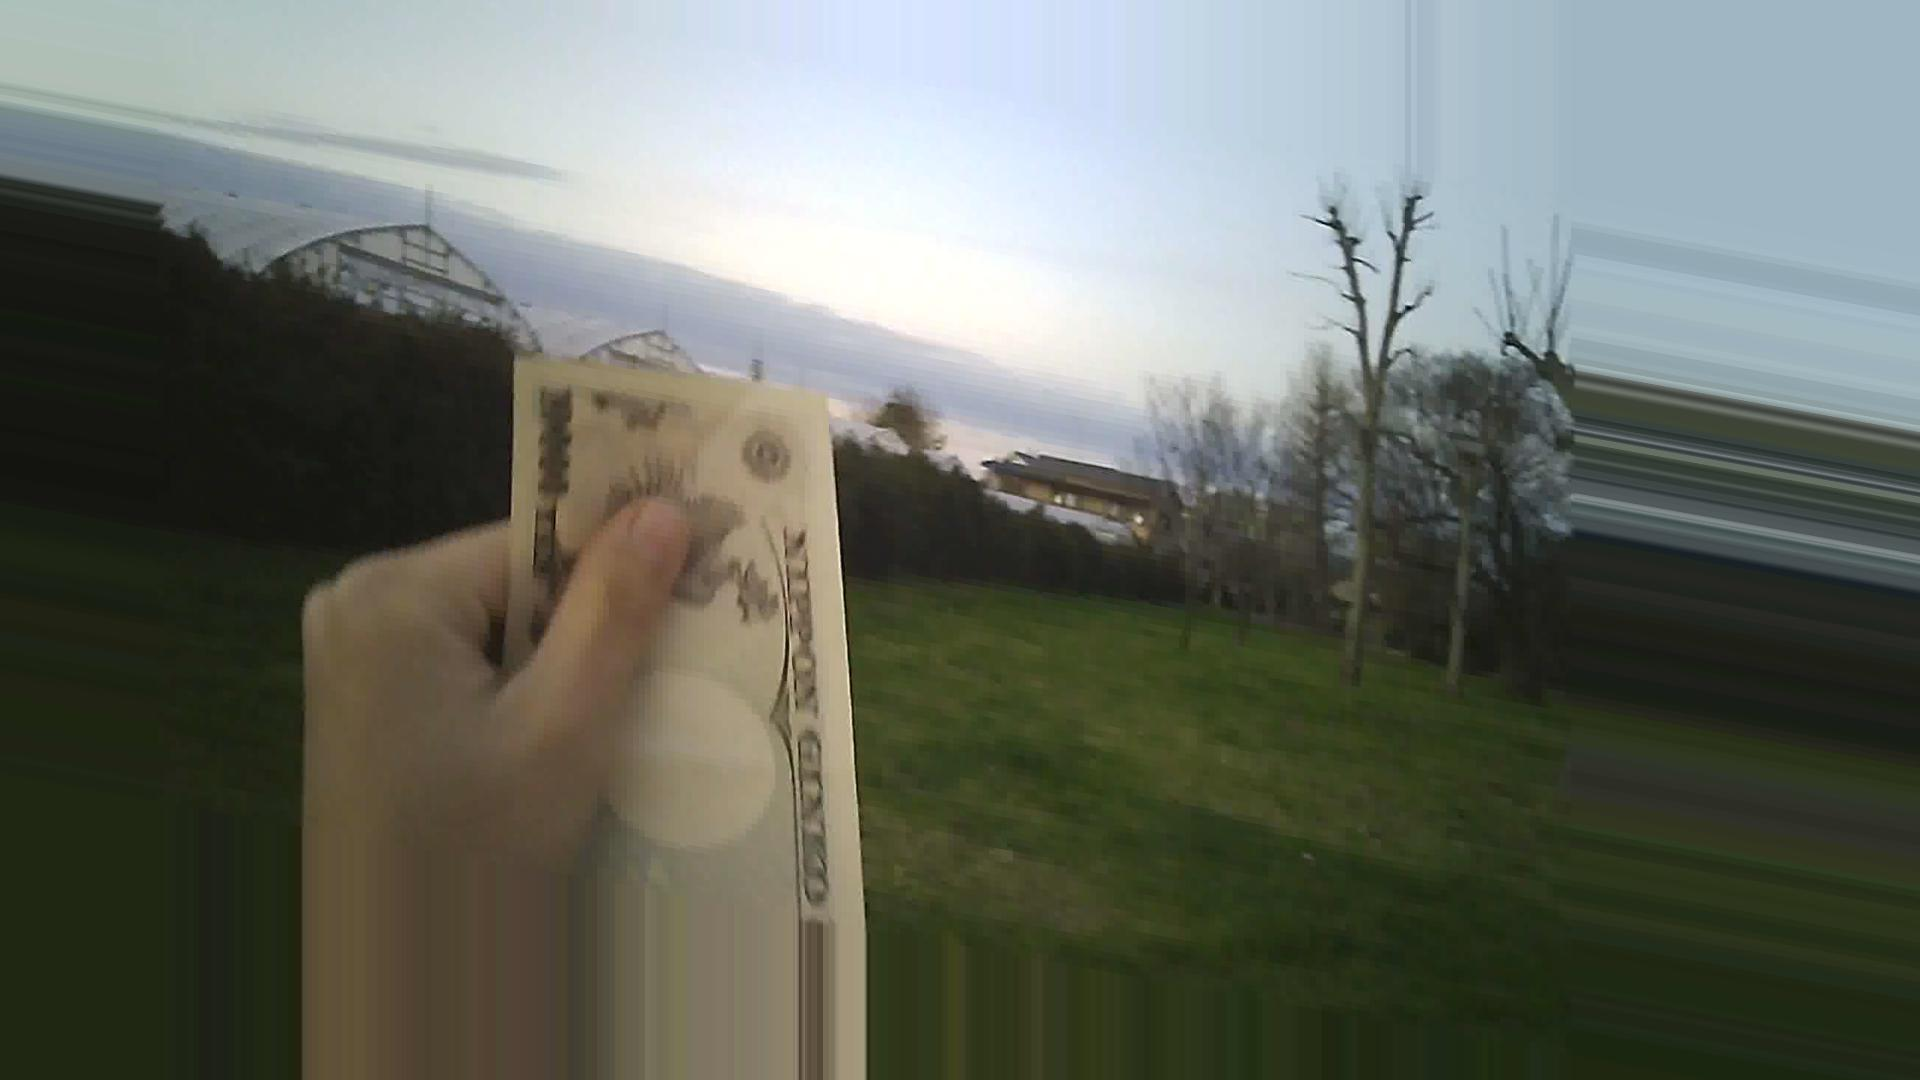10,000 Yen: (483, 345, 895, 947)
